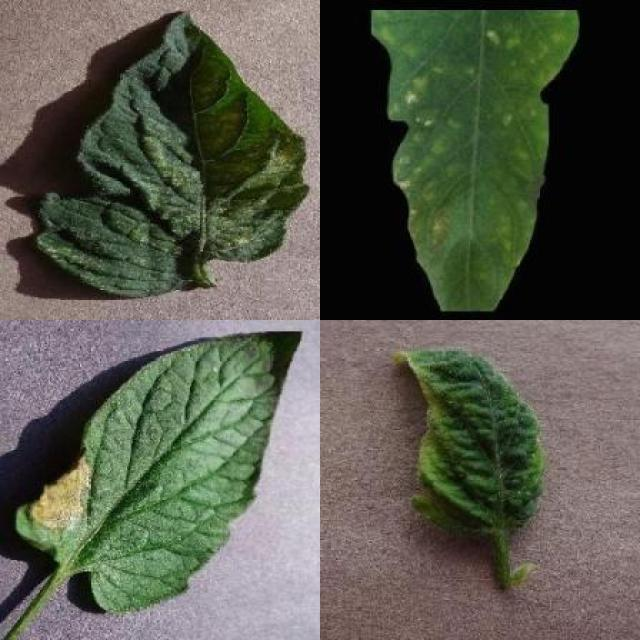Late Blight: (16, 330, 305, 614), (370, 9, 580, 312)
Spider Mites: (39, 9, 310, 300)
Yellow Leaf Curl Virus: (398, 346, 546, 540)
